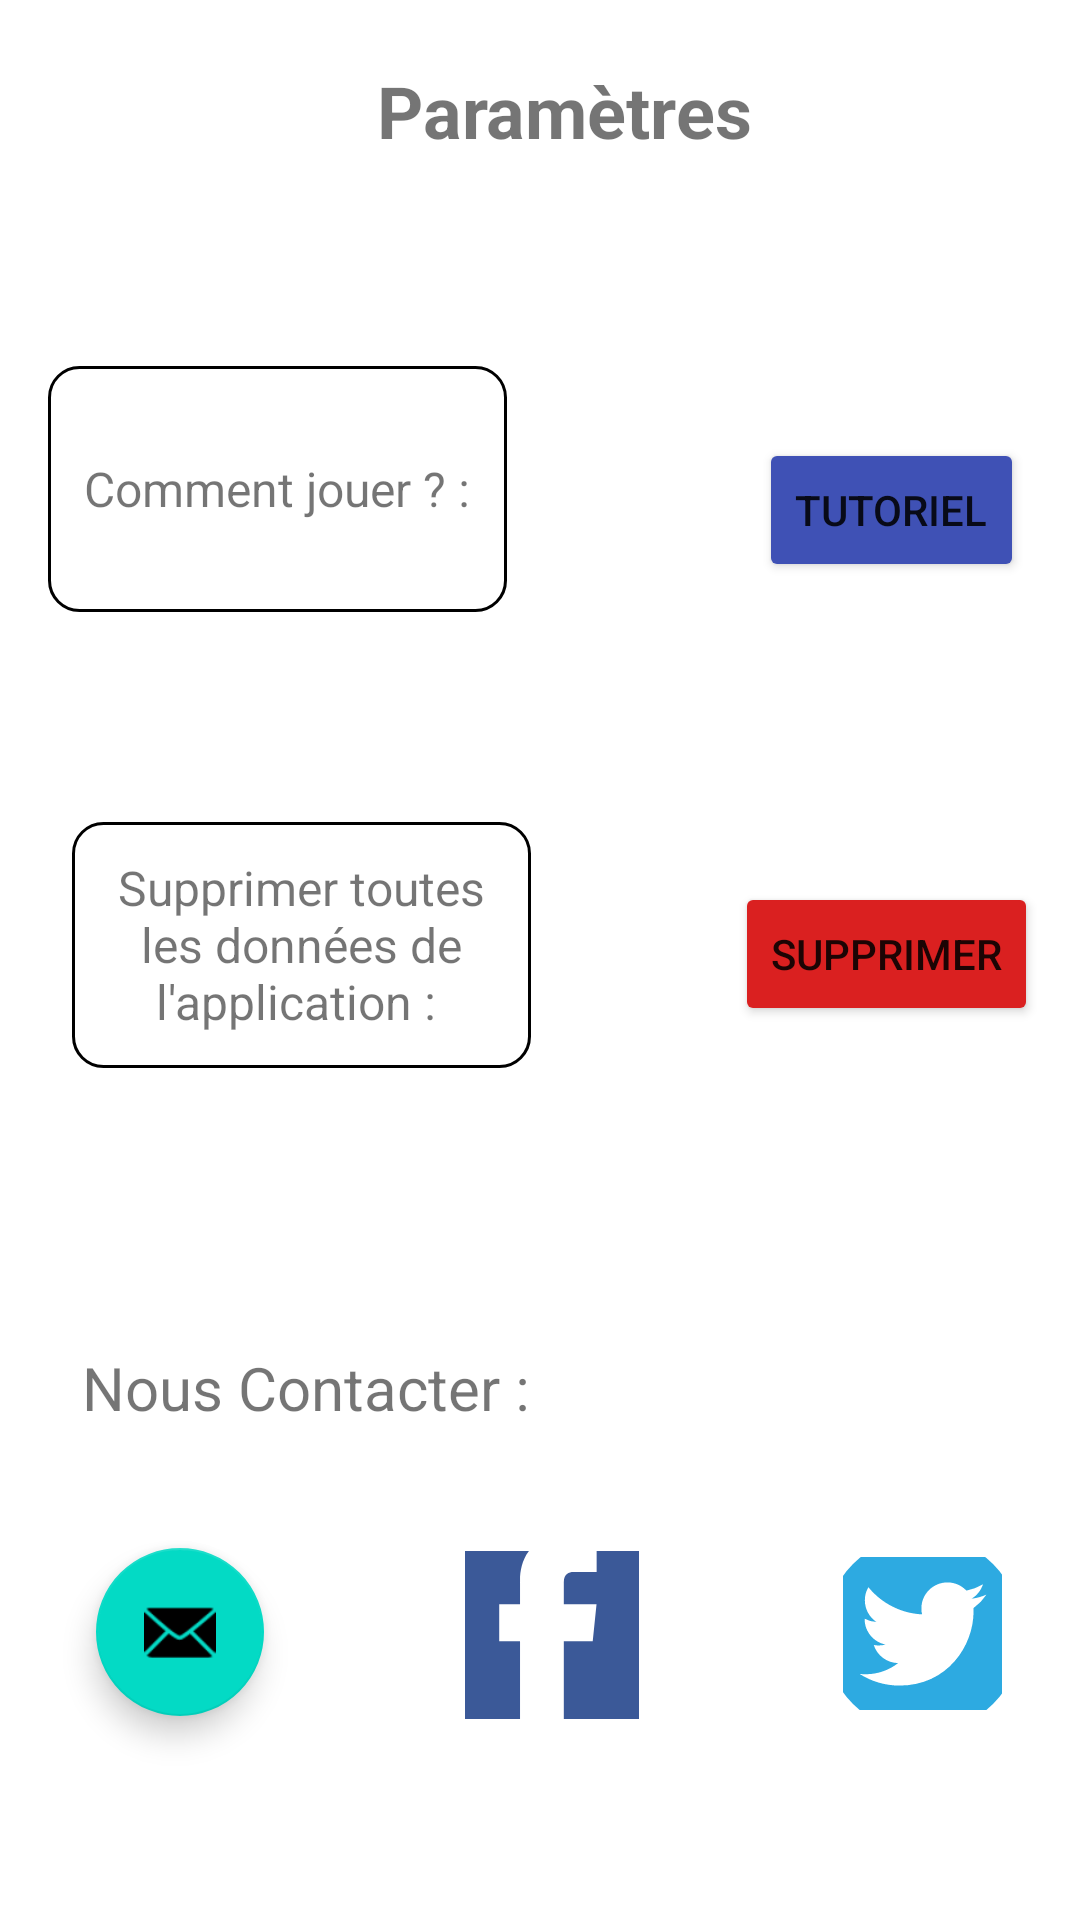

Named icons in this screenshot (1080px×1920px) and their centers, [x,y]:
Send email: [180,1632]
